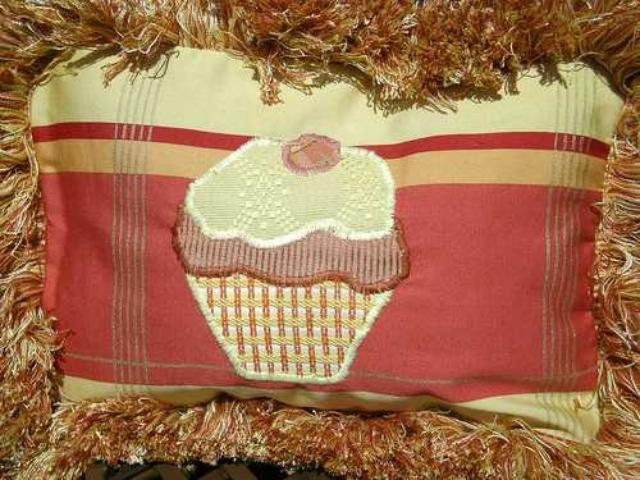pillow: (26, 44, 624, 438)
